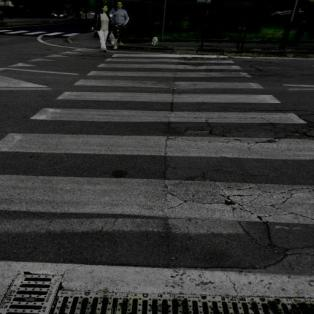Paso de Cebra: (0, 127, 314, 230), (55, 78, 288, 110)
